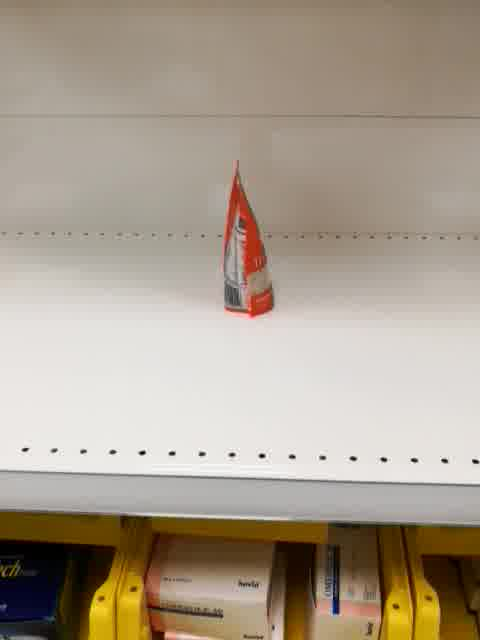whitechia: (217, 152, 279, 320)
